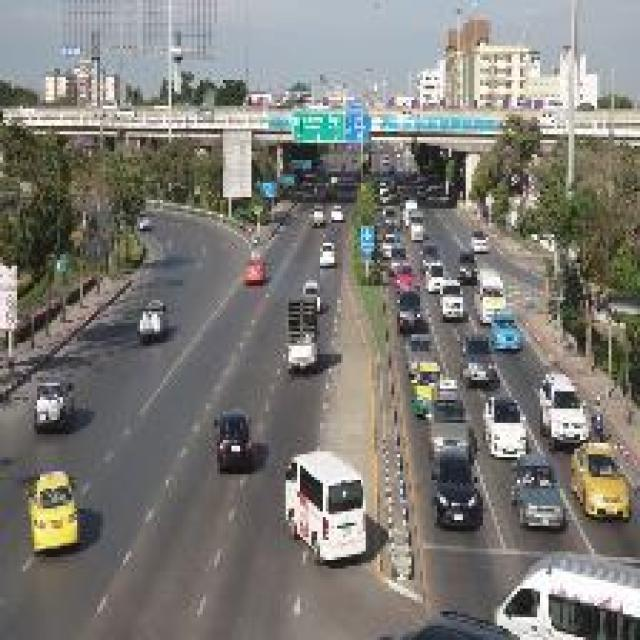other: (550, 434, 634, 531), (19, 459, 85, 551), (240, 244, 260, 290)
